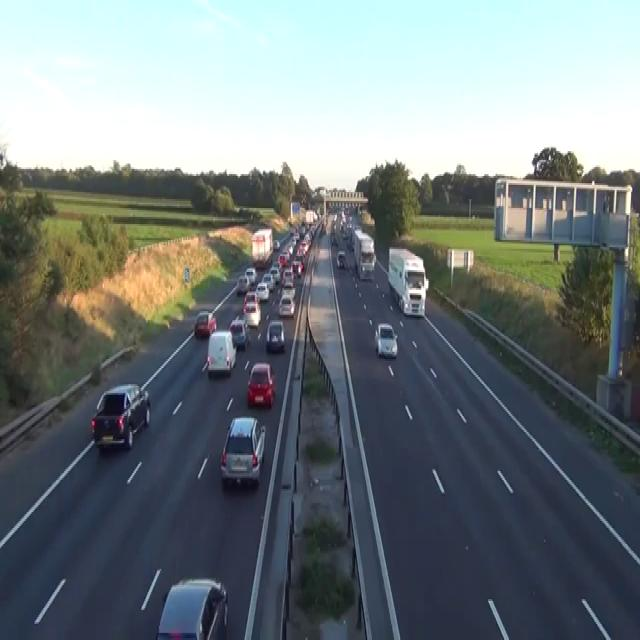Car: (155, 578, 228, 638), (90, 382, 150, 450), (220, 416, 265, 487), (206, 329, 236, 375), (247, 361, 275, 407), (374, 322, 398, 357), (229, 316, 249, 351), (265, 320, 285, 352), (194, 309, 216, 338), (243, 290, 260, 327), (278, 294, 295, 316), (348, 227, 362, 249), (243, 290, 258, 309), (255, 281, 269, 300), (236, 276, 250, 294), (261, 272, 275, 290), (281, 267, 293, 286), (245, 266, 256, 284), (292, 260, 303, 278), (269, 265, 280, 283), (336, 249, 346, 268), (235, 313, 247, 327), (278, 252, 288, 268), (295, 247, 303, 260), (330, 233, 338, 245), (283, 244, 291, 256), (348, 233, 354, 249), (273, 238, 280, 251), (287, 244, 293, 254), (293, 231, 299, 240)
Truck: (387, 246, 429, 316), (353, 228, 375, 279), (251, 228, 273, 268)
